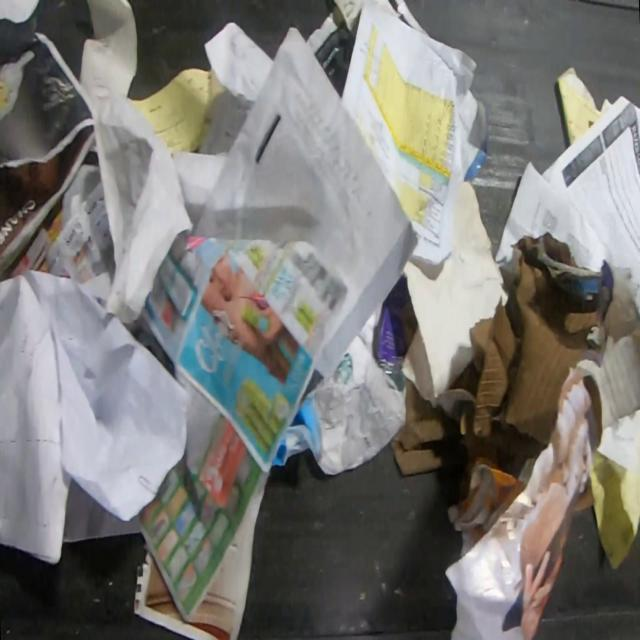cardboard: (452, 230, 640, 504), (391, 379, 469, 480)
soft_plastic: (375, 271, 418, 392)
